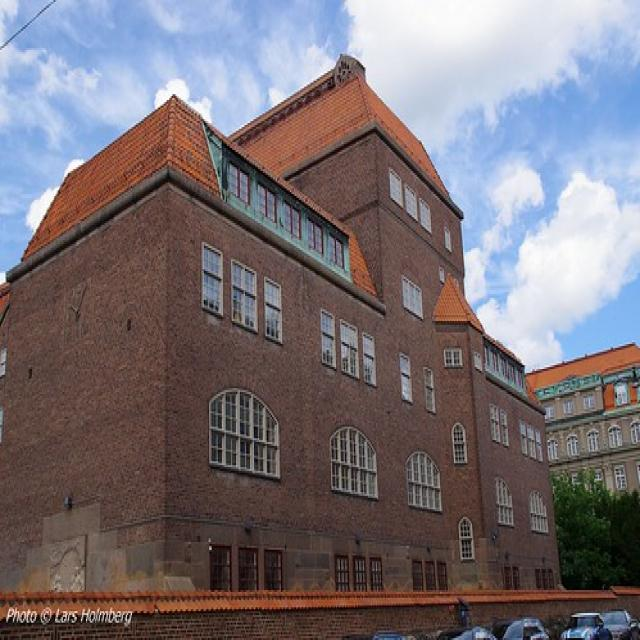Normal_building: (0, 53, 571, 600)
